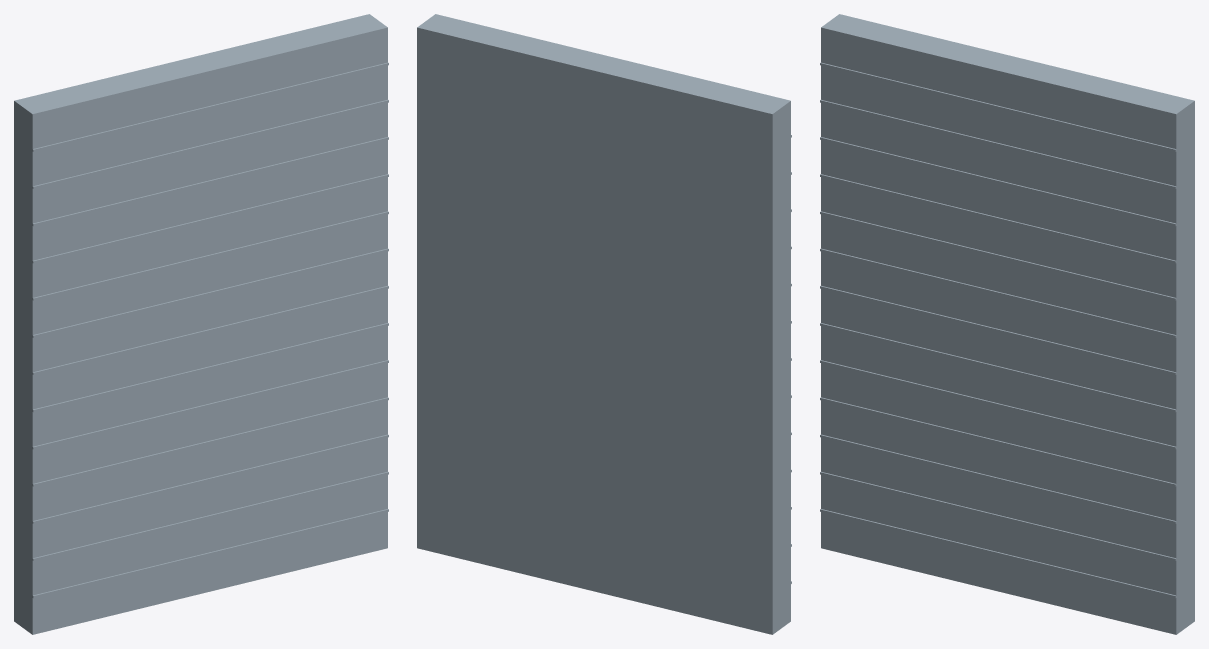
The model's file is SM_Wall_Solid_2m_Siding.fbx.
3 renders of one model, left to right at view 1: azimuth 30°, elevation 25°; view 2: azimuth 150°, elevation 25°; view 3: azimuth 330°, elevation 25°, orthographic.
Parts seen in each view (by area): view 1: SM_Wall_Solid_2m_Siding; view 2: SM_Wall_Solid_2m_Siding; view 3: SM_Wall_Solid_2m_Siding.
Part boxes in pixels (x1=…): SM_Wall_Solid_2m_Siding: x1=14, y1=14, x2=388, y2=634; SM_Wall_Solid_2m_Siding: x1=417, y1=14, x2=791, y2=634; SM_Wall_Solid_2m_Siding: x1=820, y1=14, x2=1194, y2=634.
Bounding box in the file's own units: 2 × 0.188 × 2.8.
